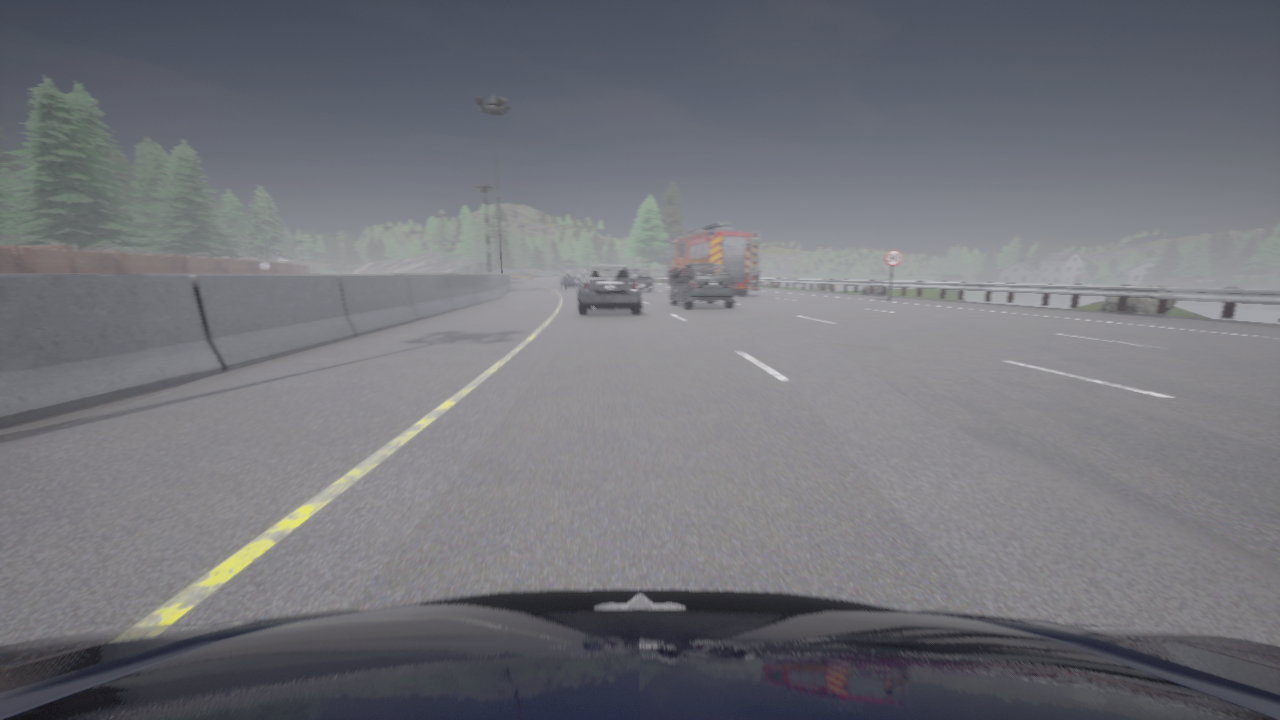cyclist: (0, 588, 1279, 719), (666, 221, 759, 294), (576, 264, 641, 315), (670, 263, 734, 308), (630, 269, 653, 291), (559, 271, 584, 289)
